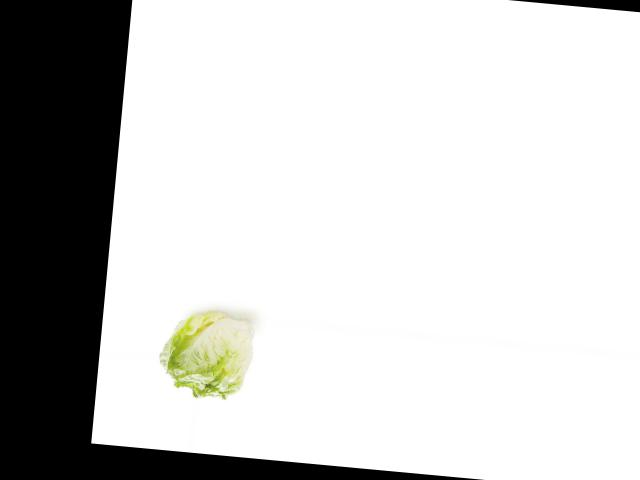lettuce: (150, 307, 262, 406)
